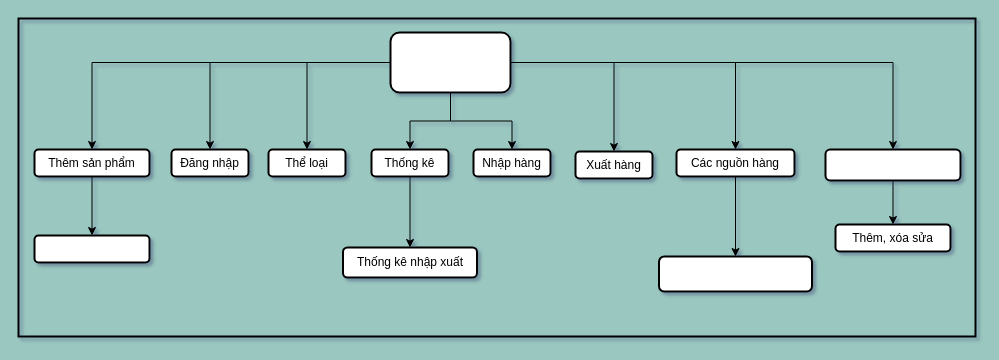
Some shapes in this 999 by 360 pixel diagram are drawn without their labels. The shapes that lost their labels are listed below. From the top down, each one's centre as x and y in pixels, then its label:
[450,62]: QUẢN LÝ KHO
[892,164]: Quản lý khách hàng
[91,248]: Xóa sửa sản phẩm
[735,273]: Cty mua mình nhập hàng
